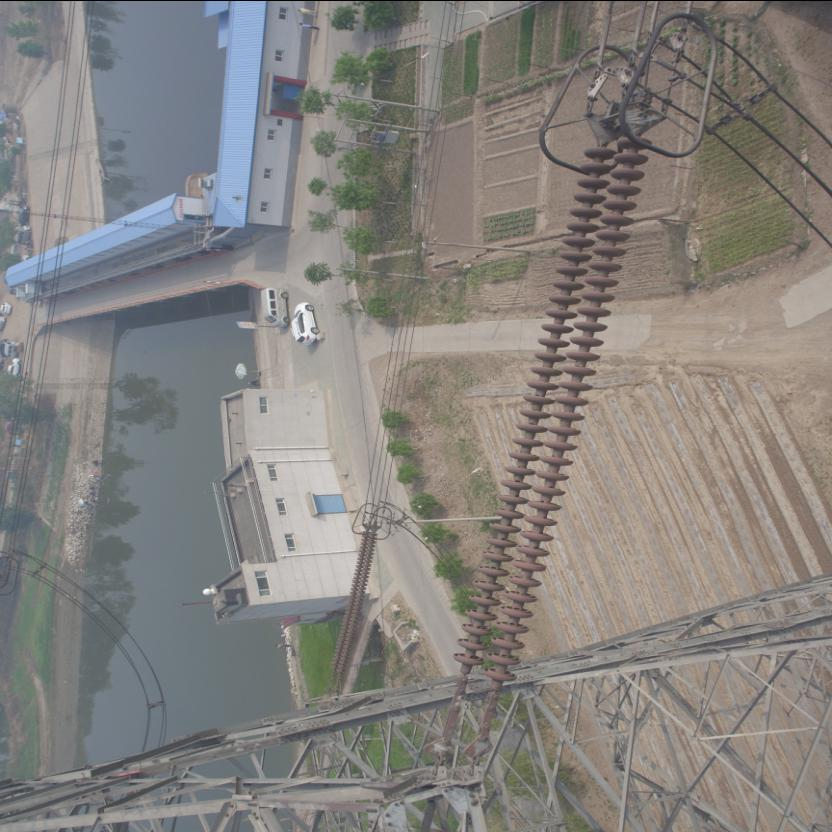insulator: (448, 126, 650, 714), (328, 528, 376, 678)
